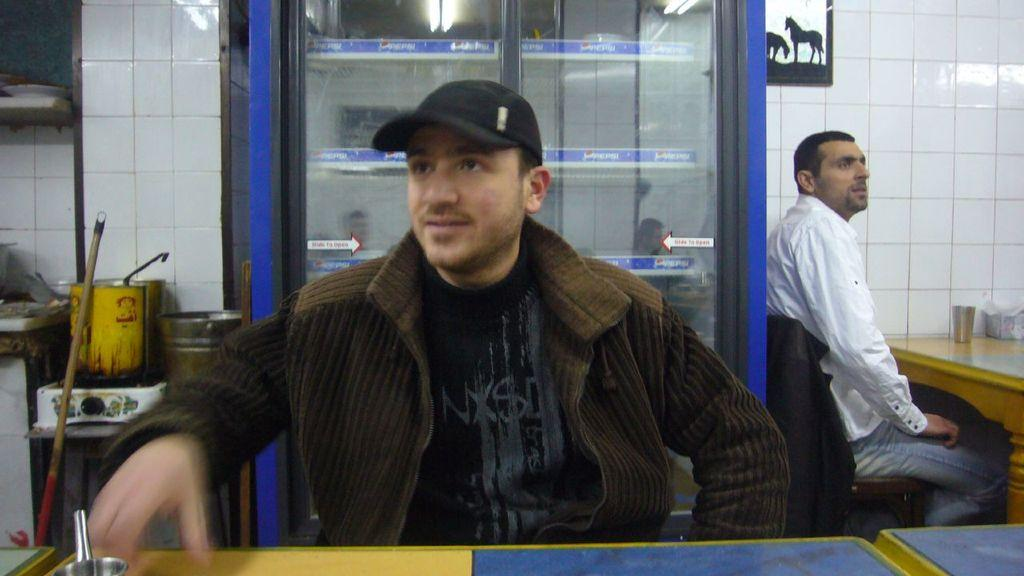Hat: (376, 78, 544, 164)
